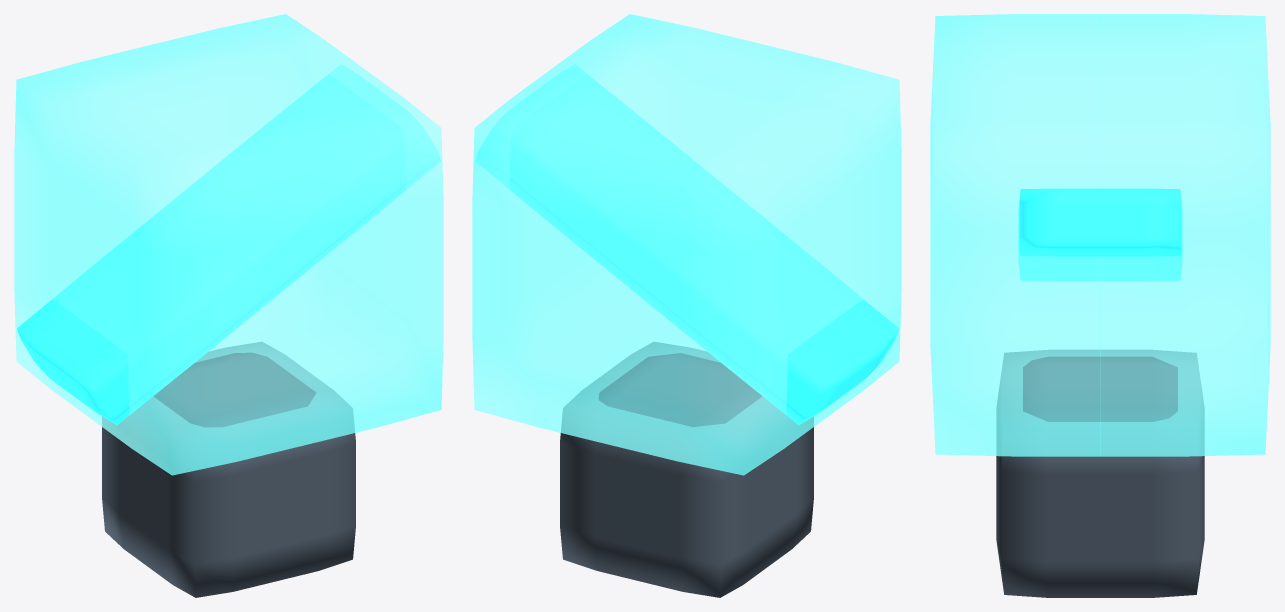
The model's file is shoulder-orb.glb.
3 views of the same model, side by side, from view 1: azimuth 30°, elevation 25°; view 2: azimuth 150°, elevation 25°; view 3: azimuth 270°, elevation 25° (orthographic). The views are drawn at different scales.
Visible parts, largest first — view 1: Orb, Ring, Mount; view 2: Orb, Ring, Mount; view 3: Orb, Mount, Ring.
Boxes of the visible parts, x1,y1,x2,y2 form: Orb: (14, 14, 443, 475); Ring: (17, 65, 440, 425); Mount: (102, 342, 355, 597); Orb: (472, 14, 901, 475); Ring: (475, 65, 898, 425); Mount: (560, 342, 813, 597); Orb: (930, 14, 1270, 456); Mount: (996, 350, 1204, 597); Ring: (1018, 188, 1182, 281).
Bounding box in the file's own units: 0.787 × 0.965 × 0.62.
